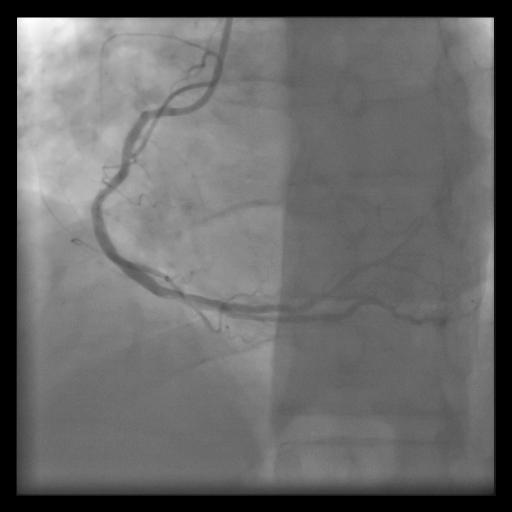Stenosis: (160, 280, 221, 318)
